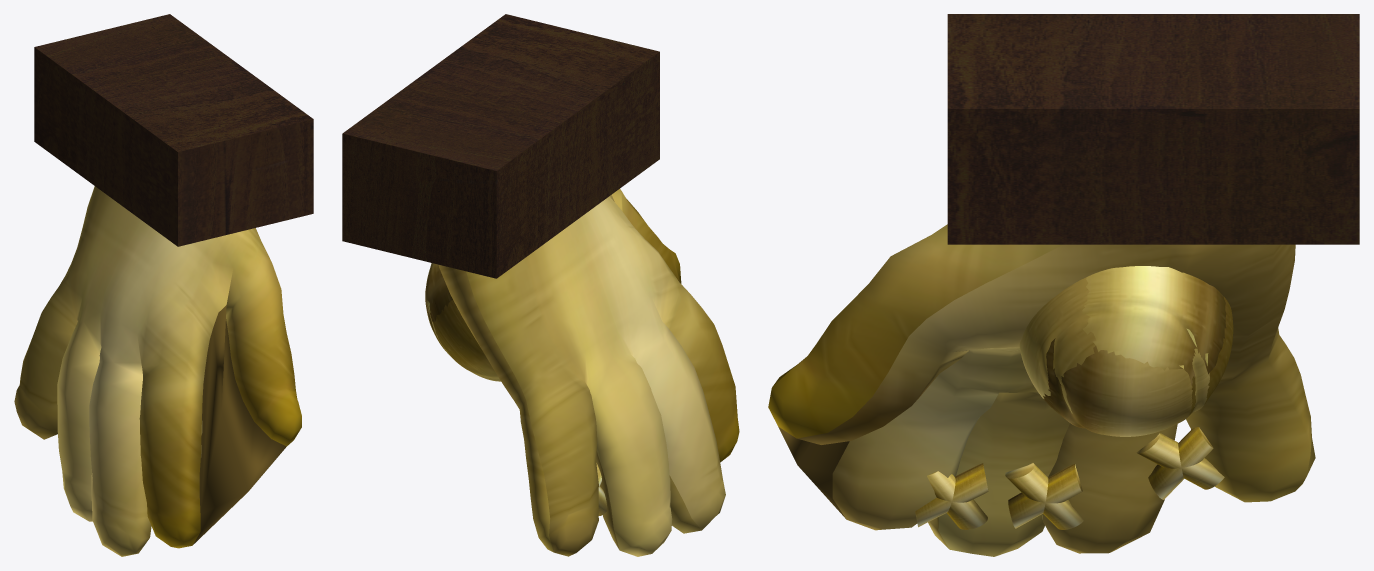
The model's file is trofeo.glb.
The picture shows the model from 3 angles, left to right: view 1: azimuth 30°, elevation 25°; view 2: azimuth 150°, elevation 25°; view 3: azimuth 270°, elevation 25°; orthographic projection. The views are drawn at different scales.
Visible parts, largest first — view 1: guantes.001, Cube; view 2: guantes.001, Cube, pelota; view 3: guantes.001, Cube, pelota.
Part boxes in pixels (bbox=[...]): guantes.001: bbox=[14, 186, 301, 556]; Cube: bbox=[34, 14, 313, 246]; guantes.001: bbox=[438, 189, 739, 556]; Cube: bbox=[342, 14, 659, 278]; pelota: bbox=[425, 263, 500, 381]; guantes.001: bbox=[768, 224, 1315, 556]; Cube: bbox=[947, 14, 1359, 244]; pelota: bbox=[1019, 266, 1233, 436].
Size of the model in its own units: 0.5677 by 1.1 by 1.03.
2 materials, 2 textured.
